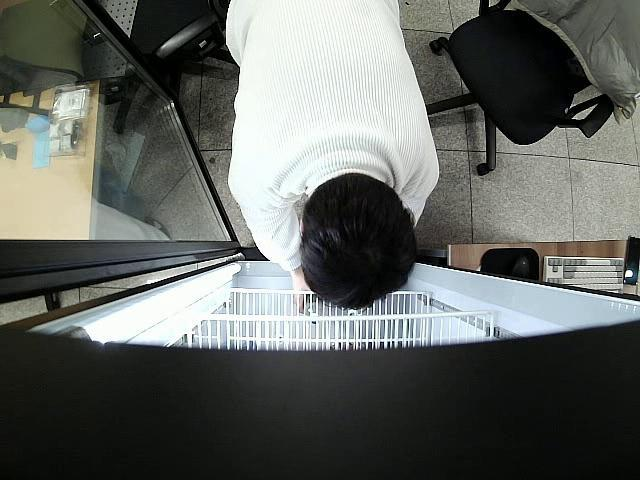18_trevi: (306, 294, 323, 327)
